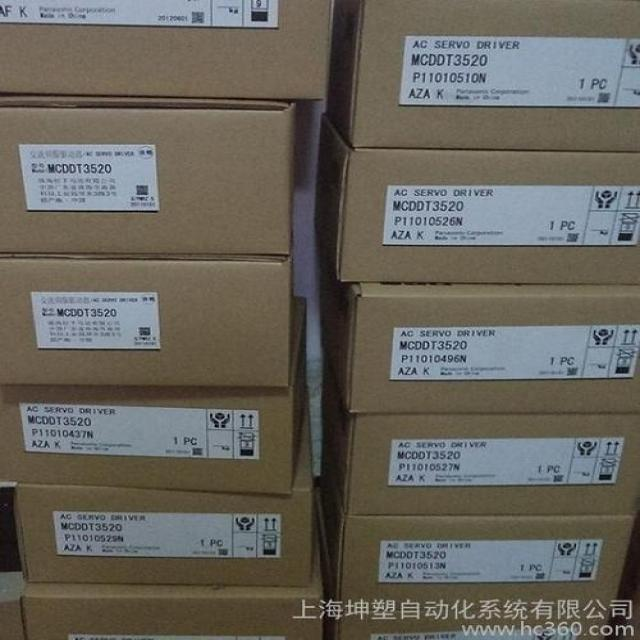box: (12, 387, 321, 585), (0, 298, 308, 494), (316, 244, 639, 414), (314, 118, 639, 283), (320, 362, 639, 516), (325, 1, 639, 154), (318, 462, 636, 612), (0, 97, 297, 257), (0, 255, 294, 387), (0, 1, 335, 100), (23, 533, 325, 639), (322, 536, 615, 639), (0, 571, 32, 639)
